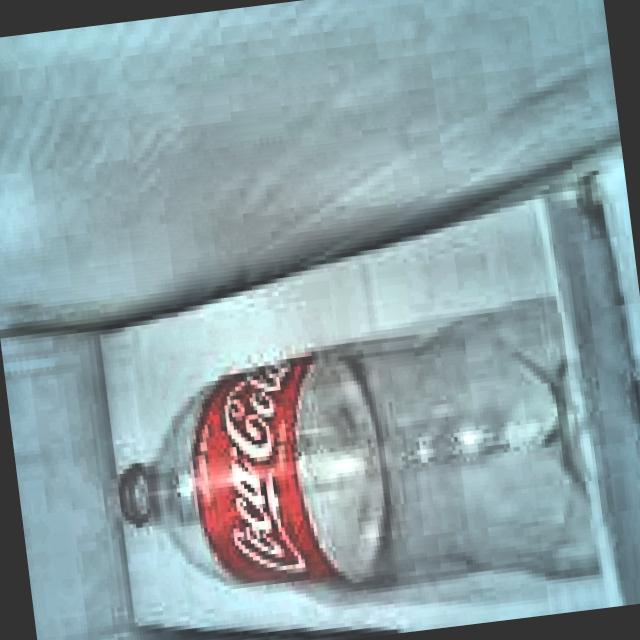plastic bottle: (118, 301, 596, 594)
